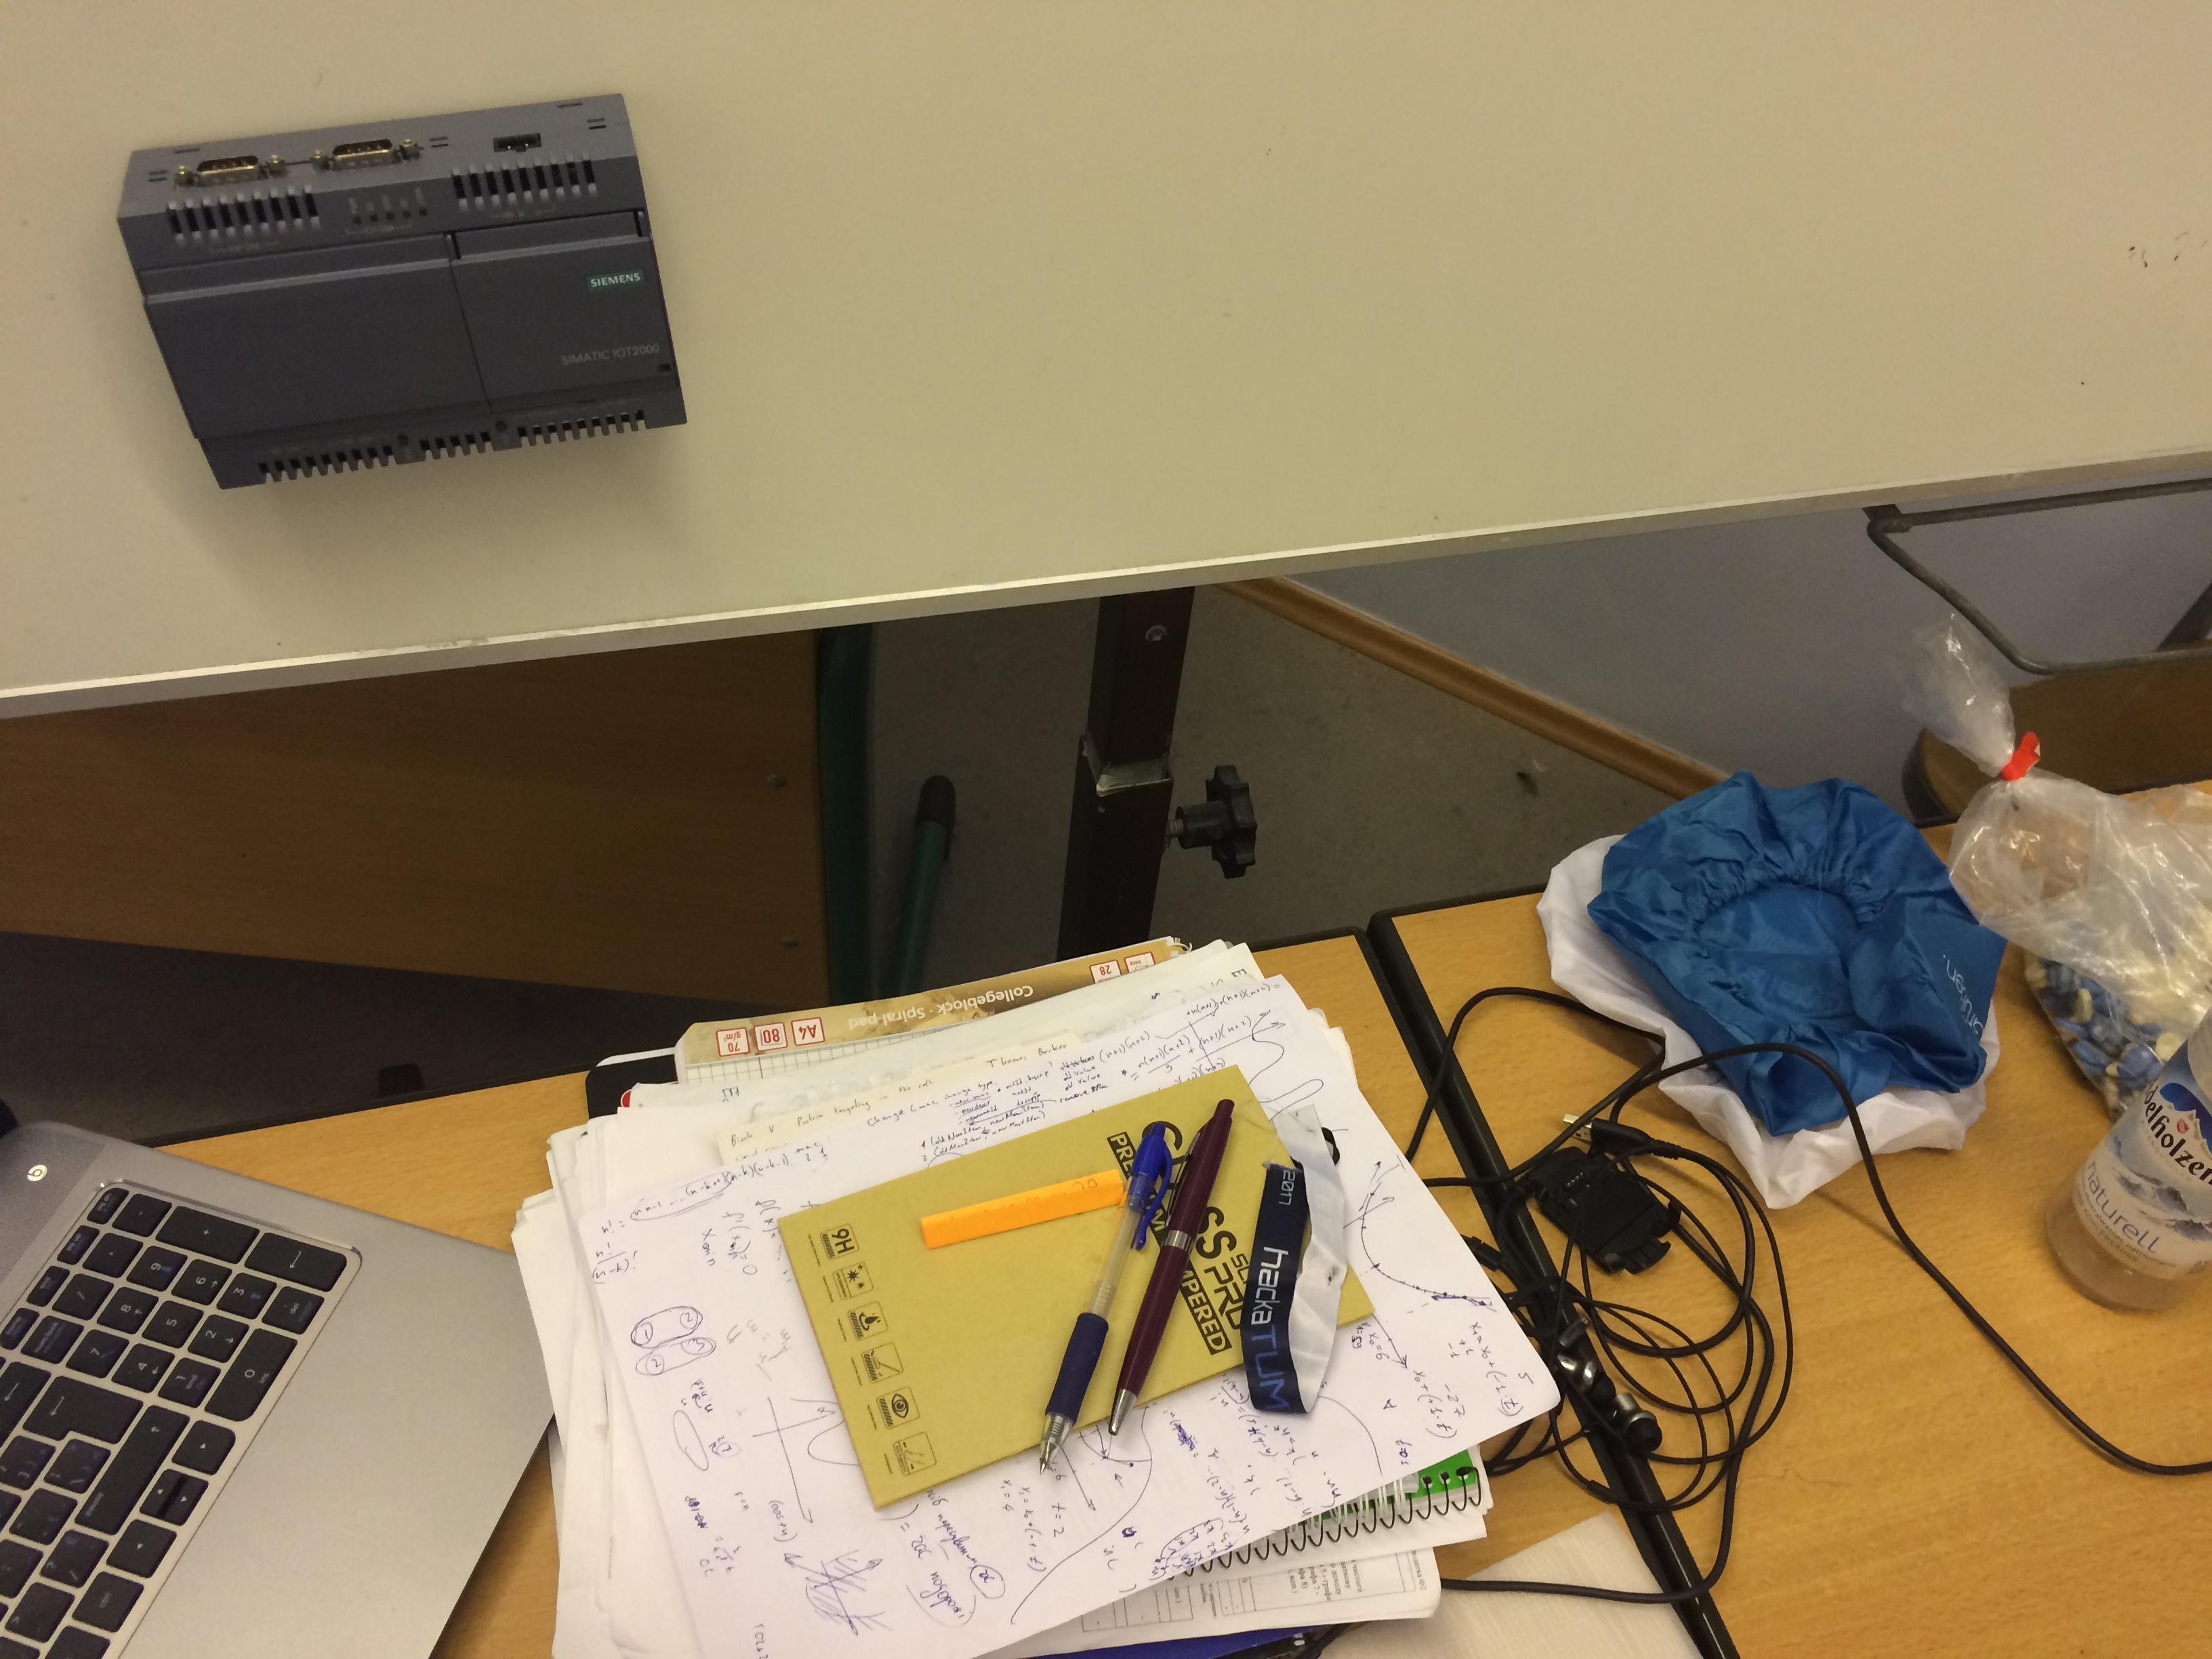iot2000: (113, 89, 691, 493)
